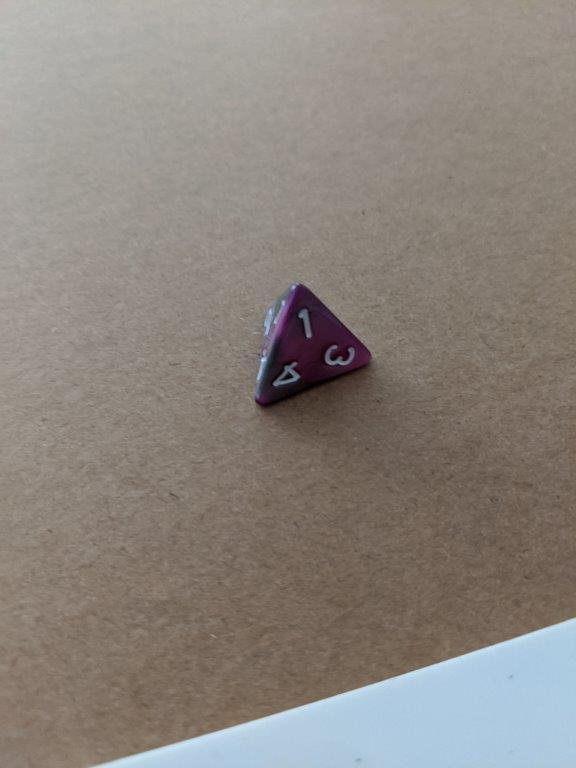d4-1: (252, 281, 374, 405)
